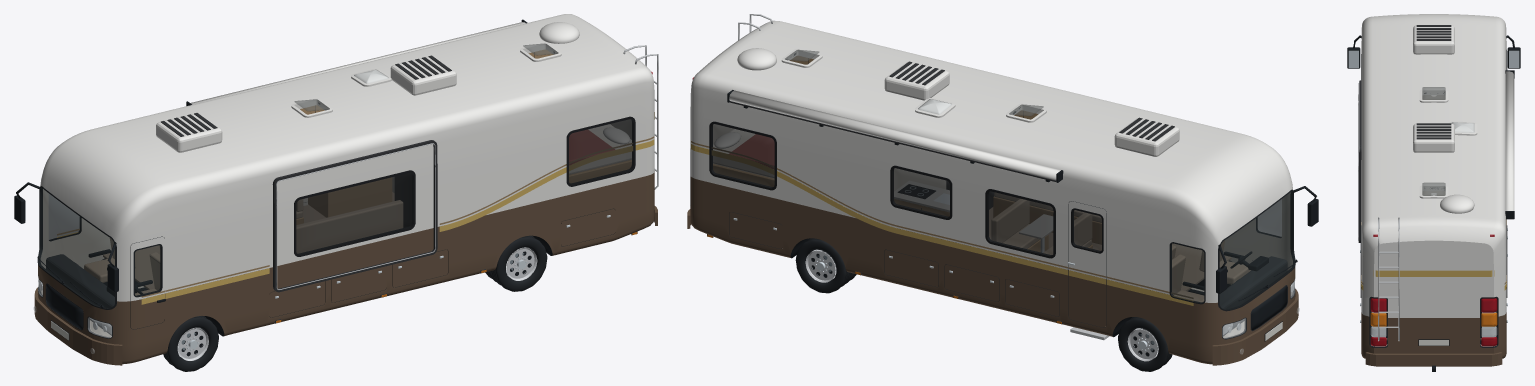
Rendered from generic-class-a-motorhome.glb.
The picture shows the model from 3 angles, left to right: view 1: azimuth 30°, elevation 25°; view 2: azimuth 150°, elevation 25°; view 3: azimuth 270°, elevation 25°; orthographic projection. The views are drawn at different scales.
Parts seen in each view (by area): view 1: Original class A motorhome lofted body, Left side window glazing, Wrap-around windscreen glazing, Left side window glazing.001, Sofa under the slide-out window back cushion, Slide-out room wall flange and wiper seal, Galley base cabinet, Front bumper, Cockpit instrument panel, Driver door, Tyre with tread blocks.001, Roof air conditioner shroud (+23 smaller); view 2: Original class A motorhome lofted body, Wrap-around windscreen glazing, Roll-out patio awning cassette, Right side window glazing, Habitation entrance door, Right side window glazing.002, Gold sweep decal.005, Right side window glazing.001, Front bumper, Passenger cab window glazing, Cockpit instrument panel, Roof air conditioner shroud (+29 smaller); view 3: Original class A motorhome lofted body, Rear bumper, Roll-out patio awning cassette, Roof air conditioner shroud.001, Roof air conditioner shroud, Rear cap gold decal, Satellite antenna dome, Slide-out room wall flange and wiper seal, Bedroom roof vent tilted hatch, Lounge roof vent tilted hatch, Lounge roof vent raised frame, Bedroom roof vent raised frame (+20 smaller).
Boxes of the visible parts, bbox=[...] form: Original class A motorhome lofted body: bbox=[38, 14, 654, 364]; Left side window glazing: bbox=[296, 173, 413, 254]; Wrap-around windscreen glazing: bbox=[38, 187, 114, 308]; Left side window glazing.001: bbox=[569, 119, 633, 184]; Sofa under the slide-out window back cushion: bbox=[296, 200, 402, 253]; Slide-out room wall flange and wiper seal: bbox=[272, 140, 437, 292]; Galley base cabinet: bbox=[308, 177, 391, 217]; Front bumper: bbox=[34, 287, 122, 365]; Cockpit instrument panel: bbox=[46, 254, 114, 308]; Driver door: bbox=[130, 236, 164, 329]; Tyre with tread blocks.001: bbox=[491, 235, 547, 291]; Roof air conditioner shroud: bbox=[156, 113, 222, 152]; Original class A motorhome lofted body: bbox=[690, 20, 1295, 364]; Wrap-around windscreen glazing: bbox=[1219, 191, 1294, 309]; Roll-out patio awning cassette: bbox=[729, 90, 1060, 180]; Right side window glazing: bbox=[987, 191, 1053, 256]; Habitation entrance door: bbox=[1068, 201, 1106, 327]; Right side window glazing.002: bbox=[711, 124, 774, 187]; Gold sweep decal.005: bbox=[691, 144, 1067, 275]; Right side window glazing.001: bbox=[892, 168, 949, 217]; Front bumper: bbox=[1212, 289, 1298, 365]; Passenger cab window glazing: bbox=[1171, 243, 1204, 302]; Cockpit instrument panel: bbox=[1219, 256, 1287, 309]; Roof air conditioner shroud: bbox=[1114, 118, 1179, 156]; Original class A motorhome lofted body: bbox=[1361, 14, 1506, 358]; Rear bumper: bbox=[1365, 352, 1502, 366]; Roll-out patio awning cassette: bbox=[1505, 71, 1514, 210]; Roof air conditioner shroud.001: bbox=[1413, 123, 1454, 152]; Roof air conditioner shroud: bbox=[1413, 25, 1454, 54]; Rear cap gold decal: bbox=[1373, 270, 1494, 276]; Satellite antenna dome: bbox=[1440, 194, 1474, 213]; Slide-out room wall flange and wiper seal: bbox=[1358, 80, 1361, 242]; Bedroom roof vent tilted hatch: bbox=[1422, 182, 1445, 195]; Lounge roof vent tilted hatch: bbox=[1422, 87, 1445, 99]; Lounge roof vent raised frame: bbox=[1419, 89, 1448, 102]; Bedroom roof vent raised frame: bbox=[1419, 185, 1448, 198].
Size of the model in its own units: 9.72 by 3.41 by 2.98.
33 materials, 33 textured.
